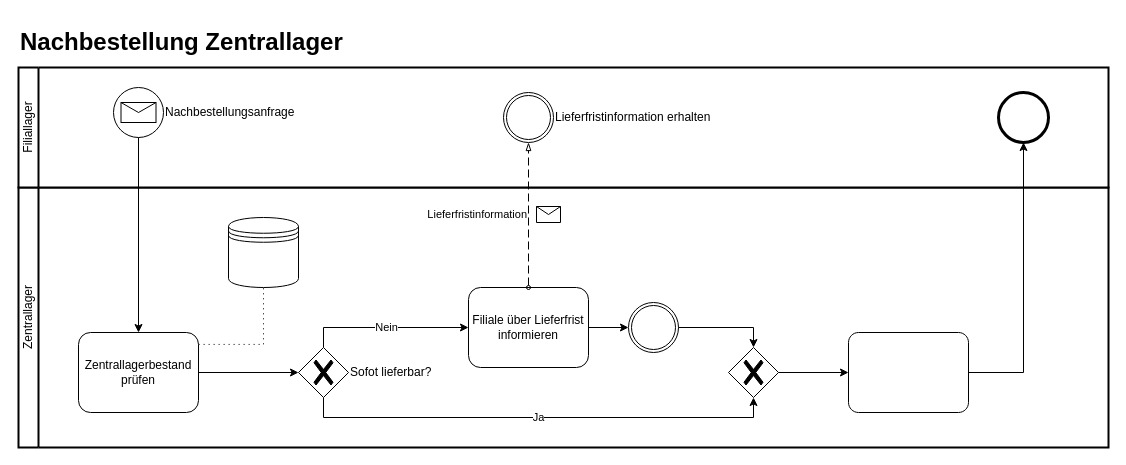
The diagram is 1126 pixels wide and 465 high, and some of its shapes have lost their labels. The box of each missing label's shape, as (x1, y1, x2, y2) in pixels:
Artikel eingetroffen: (998, 92, 1048, 142)
Artikel lieferbar: (628, 302, 678, 352)
Artikel versenden: (848, 332, 968, 412)
Zentralllagerbestand: (228, 216, 298, 288)
